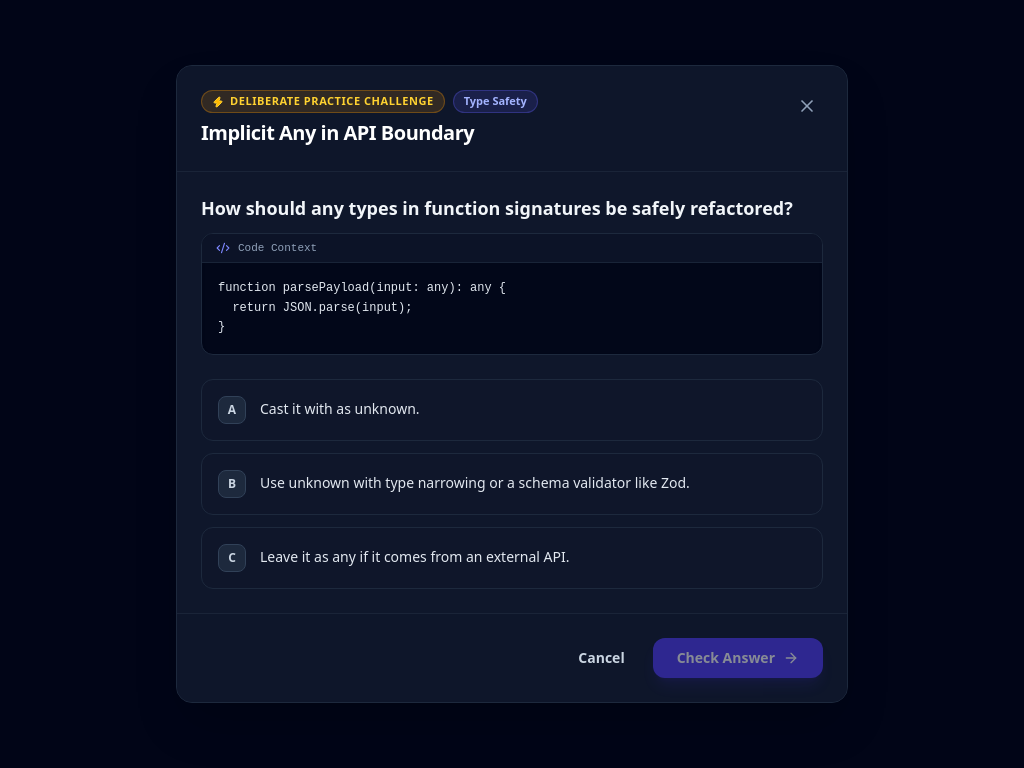
Test case: ChallengeModal component › evaluates incorrect answer deterministically, does NOT update score, reveals correct answer, and shows constructive feedback
The image size is (1024, 768).
# Select incorrect option A
Click the text "Cast it with as unknown." at (340, 408), box [260,399,420,418]
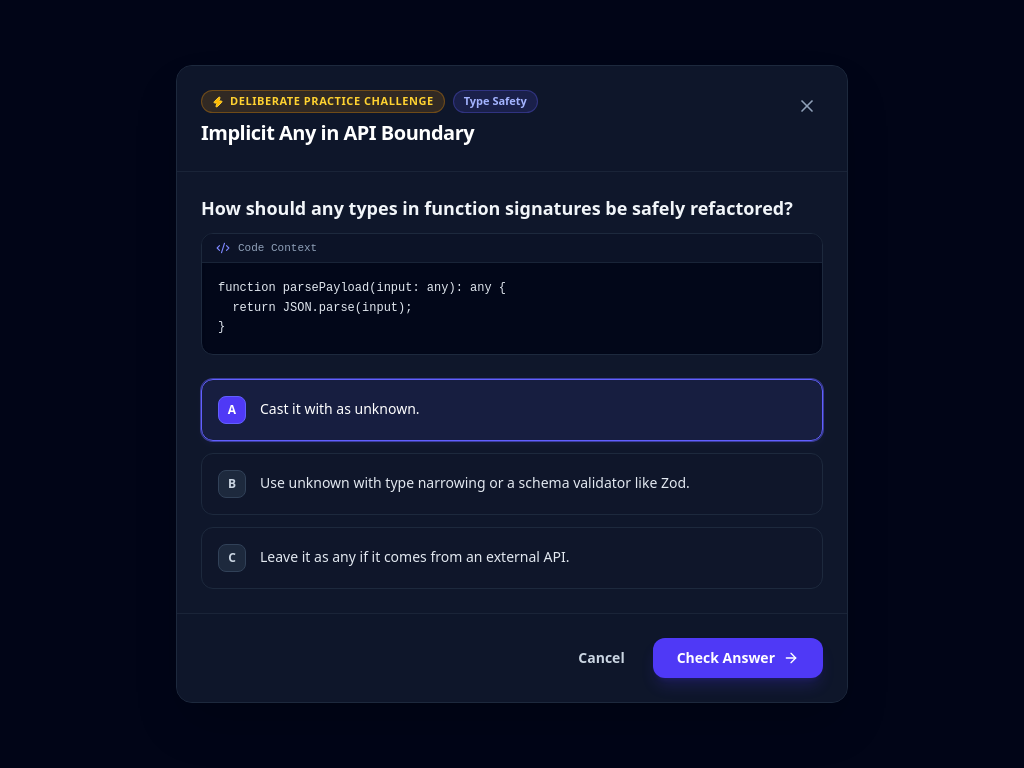
Click the button "Check Answer" at (738, 658), box [653,638,823,678]
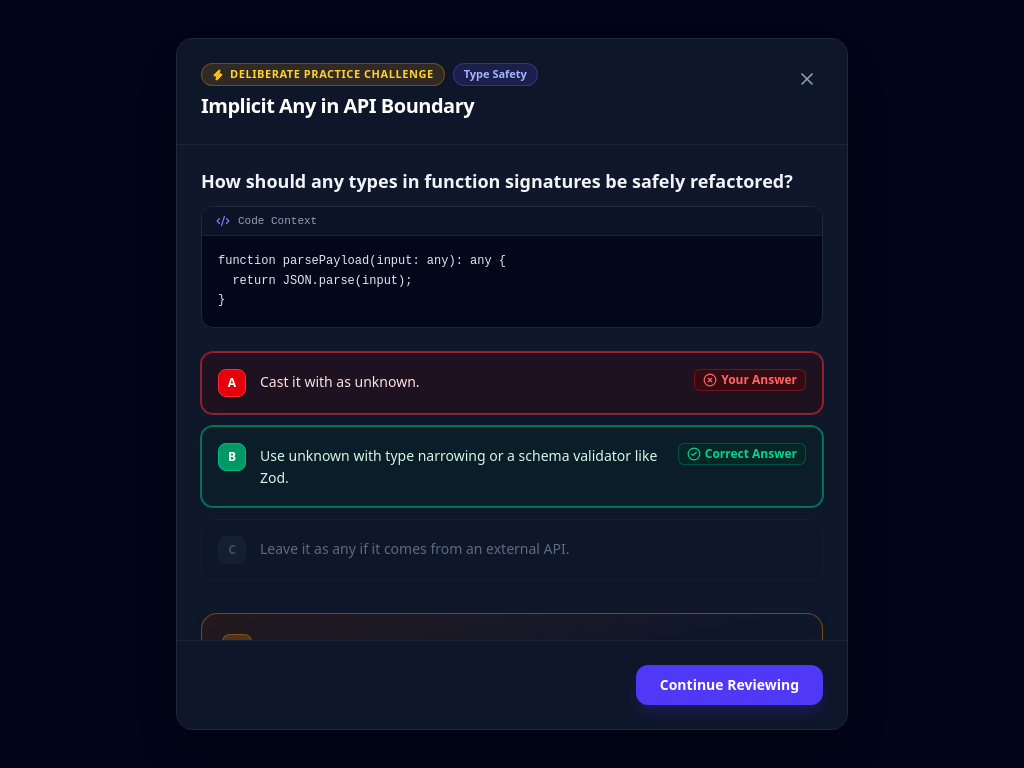
Now the text "Correct Answer" is shown, box [705,446,797,462]
Now the button "Continue Reviewing" is shown, box [636,665,823,705]
